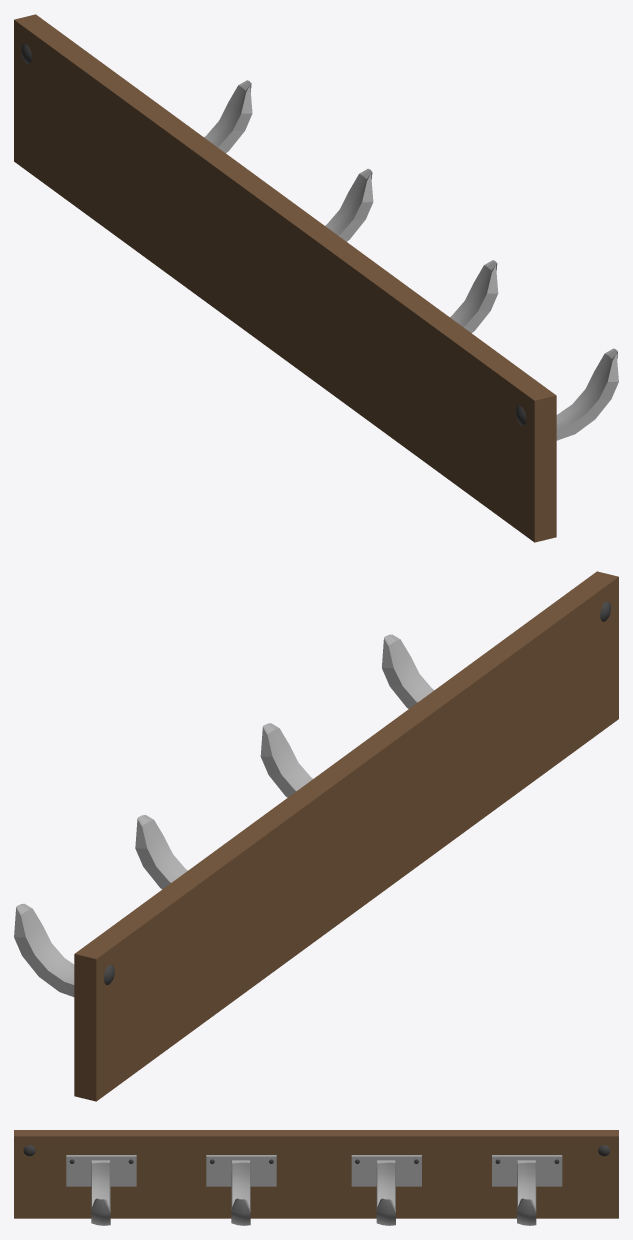
Rendered from SM_hangers.fbx.
3 renders of one model, top to bottom at view 1: azimuth 30°, elevation 25°; view 2: azimuth 150°, elevation 25°; view 3: azimuth 270°, elevation 25°, orthographic. The views are drawn at different scales.
Parts seen in each view (by area): view 1: polySurface15; view 2: polySurface15; view 3: polySurface15.
Boxes of the visible parts, x1,y1,x2,y2 form: polySurface15: [14, 14, 618, 542]; polySurface15: [14, 571, 618, 1101]; polySurface15: [14, 1130, 618, 1225].
Size of the model in its own units: 1.38 by 1.16 by 7.74.
